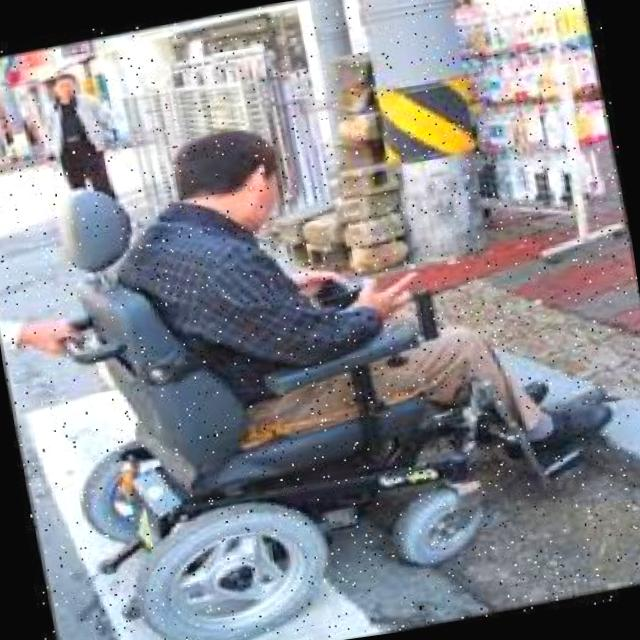Person: (18, 62, 636, 640), (27, 64, 124, 206)
